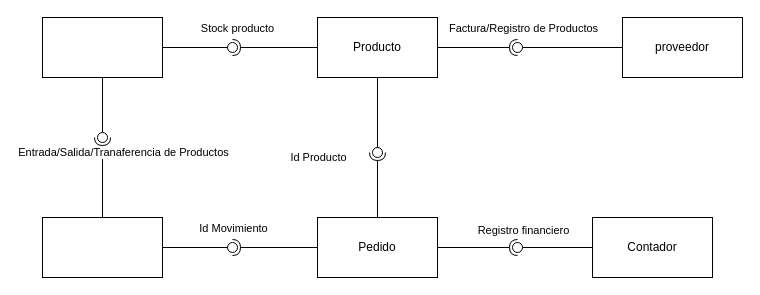
Some shapes in this 760 by 295 pixel diagram are drawn without their labels. The box of each missing label's shape, as (x1, y1, x2, y2) in pixels:
Bodeguero: (42, 16, 162, 78)
Movimientos: (42, 216, 162, 278)
